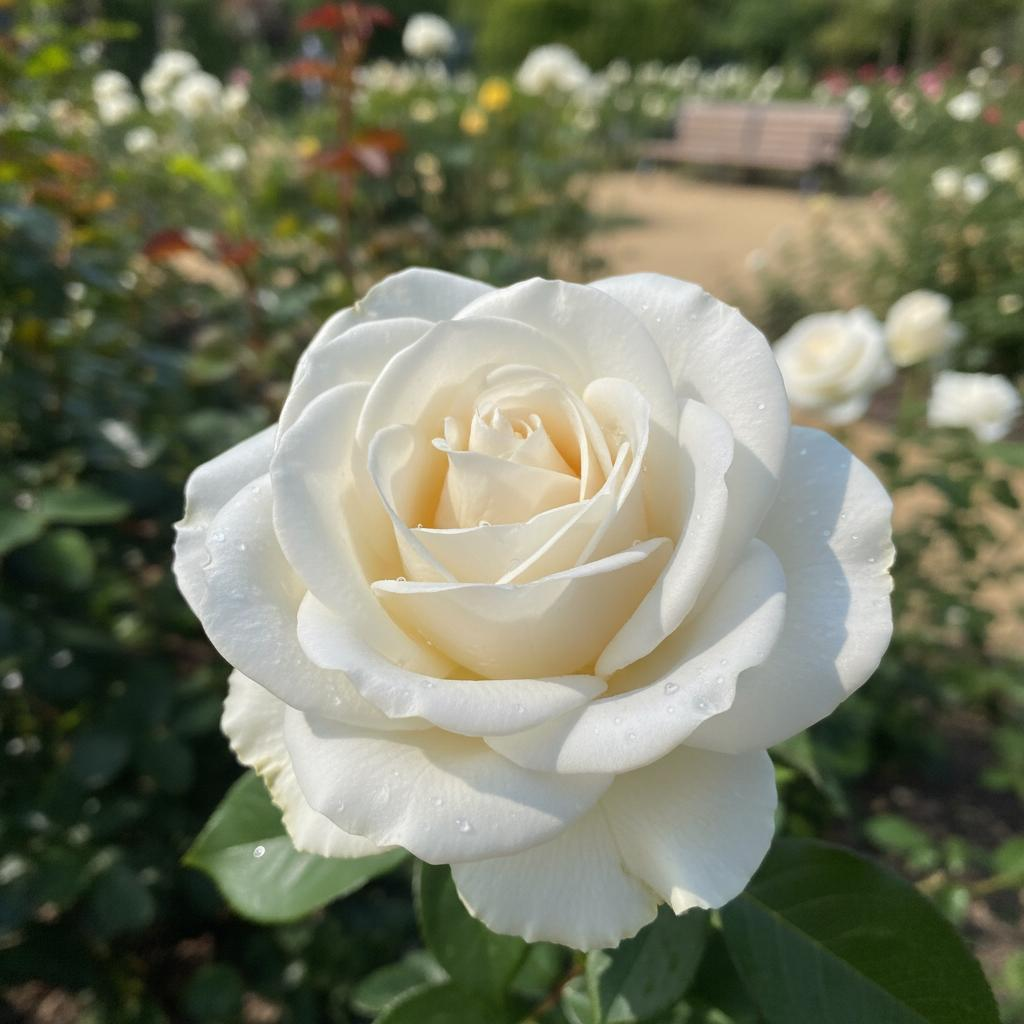rose: (169, 263, 897, 952)
